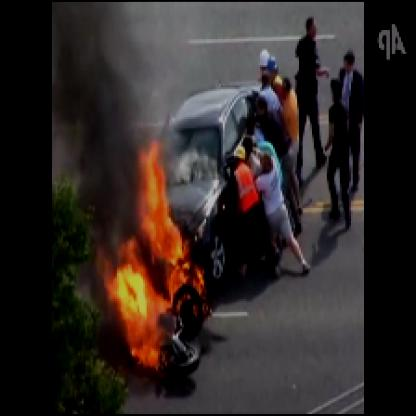Fire: (102, 128, 217, 386)
Smoke: (63, 2, 134, 219)
